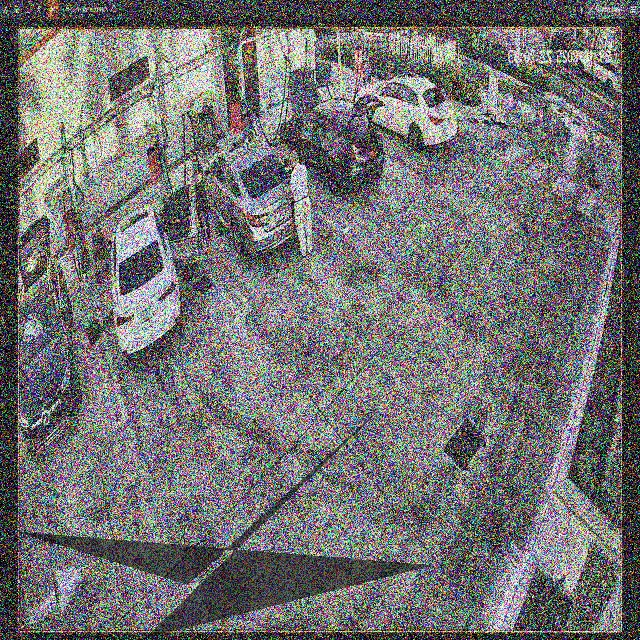Car: (109, 183, 192, 357), (282, 73, 384, 194), (200, 137, 300, 256), (355, 72, 460, 151)
